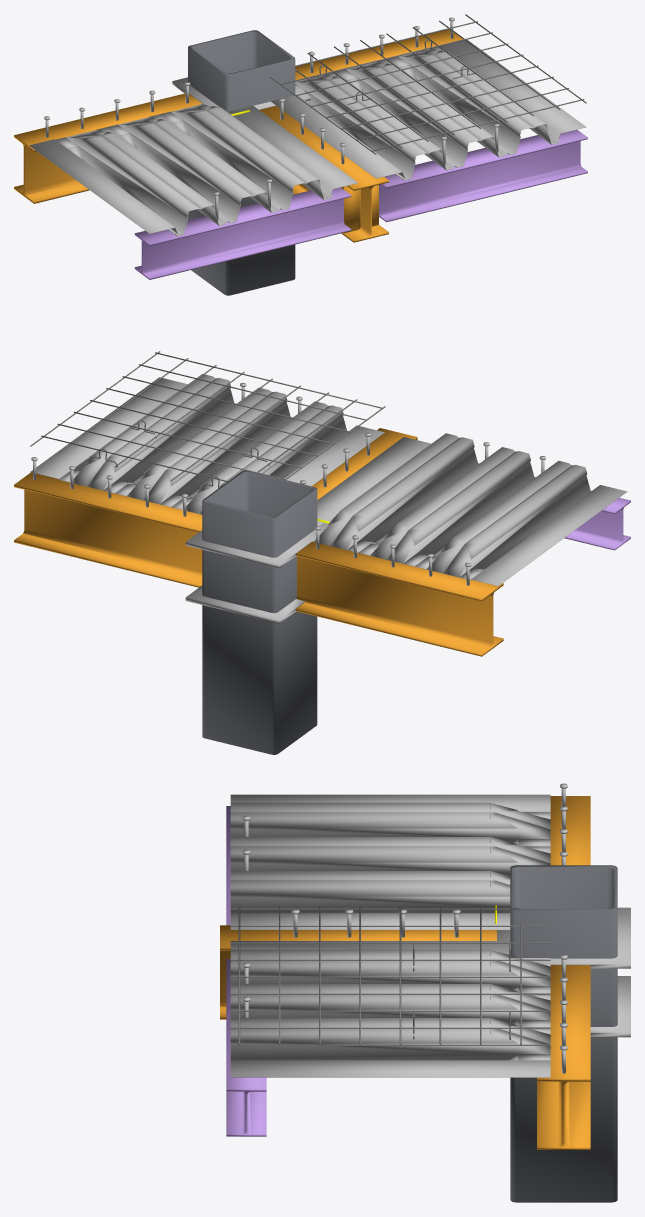
Rendered from asset.glb.
The picture shows the model from 3 angles, top to bottom: view 1: azimuth 30°, elevation 25°; view 2: azimuth 150°, elevation 25°; view 3: azimuth 270°, elevation 25°; orthographic projection. The views are drawn at different scales.
Parts seen in each view (by area): view 1: 金属 - 亜鉛.001, ペイント - ウルトラマリンバイオレット, 金属 - 銅.001, 金属 - 鉄.001, GDLM8_AMI; view 2: 金属 - 亜鉛.001, 金属 - 銅.001, 金属 - 鉄.001, GDLM8_AMI, ペイント - ウルトラマリンバイオレット; view 3: 金属 - 亜鉛.001, 金属 - 鉄.001, 金属 - 銅.001, GDLM8_AMI, ペイント - ウルトラマリンバイオレット.
Part boxes in pixels (x1,y1,x2,y2): 金属 - 亜鉛.001: [29, 17, 586, 236]; ペイント - ウルトラマリンバイオレット: [134, 129, 587, 279]; 金属 - 銅.001: [14, 29, 464, 242]; 金属 - 鉄.001: [188, 30, 295, 295]; GDLM8_AMI: [270, 14, 586, 154]; 金属 - 亜鉛.001: [30, 374, 627, 623]; 金属 - 銅.001: [14, 428, 503, 656]; 金属 - 鉄.001: [202, 470, 317, 754]; GDLM8_AMI: [30, 351, 385, 488]; ペイント - ウルトラマリンバイオレット: [478, 463, 630, 550]; 金属 - 亜鉛.001: [230, 783, 630, 1077]; 金属 - 鉄.001: [510, 865, 617, 1202]; 金属 - 銅.001: [220, 796, 590, 1149]; GDLM8_AMI: [230, 907, 550, 1045]; ペイント - ウルトラマリンバイオレット: [226, 806, 266, 1136].
Size of the model in its own units: 2.51 by 1.2 by 2.3.
